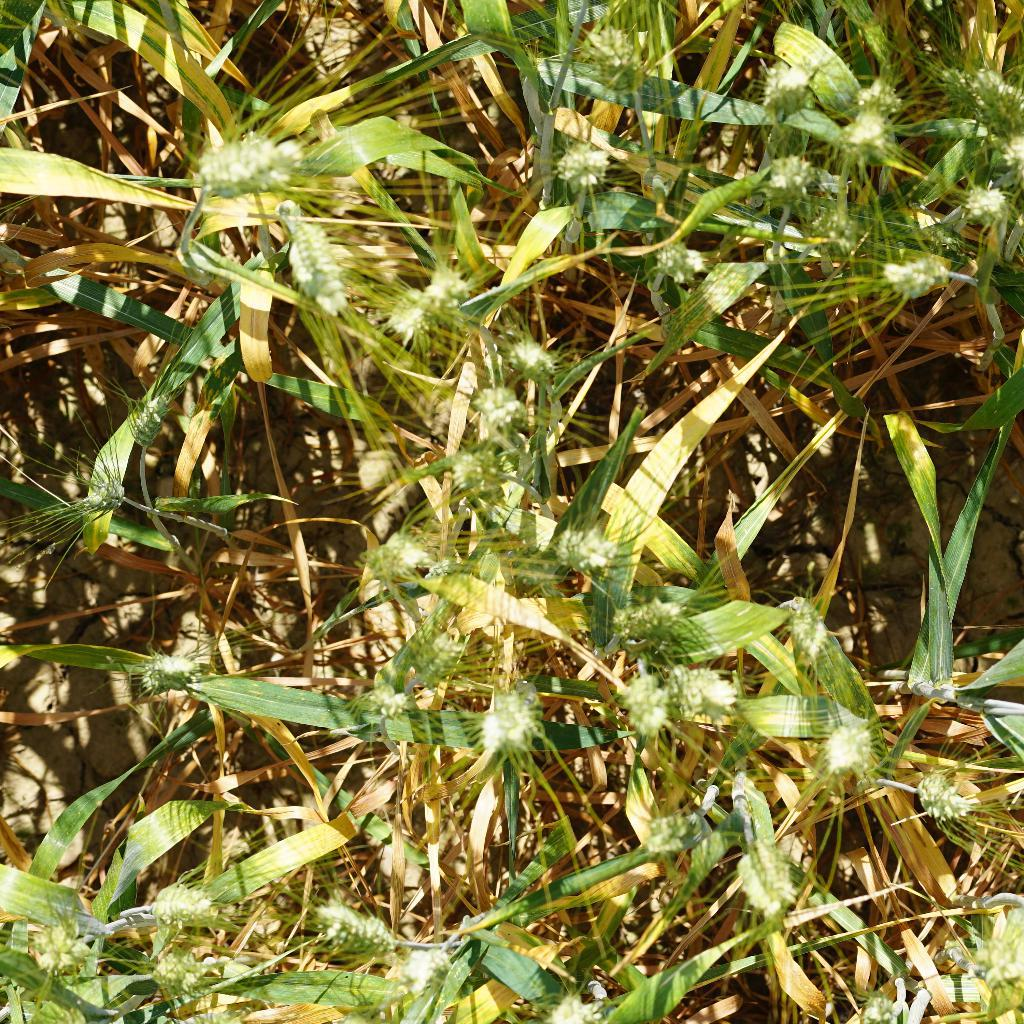0-0: (376, 246, 471, 340), (272, 210, 355, 314), (187, 123, 305, 194), (578, 17, 661, 114), (301, 897, 402, 965), (539, 519, 635, 590), (824, 77, 897, 170), (594, 590, 705, 650), (744, 49, 821, 134), (759, 144, 836, 228), (732, 836, 807, 915), (942, 63, 1024, 135), (464, 686, 555, 750), (444, 436, 529, 500), (879, 243, 957, 311), (135, 875, 224, 933), (963, 904, 1023, 990), (119, 643, 210, 695), (395, 623, 470, 684), (25, 909, 93, 976), (490, 326, 560, 391), (372, 529, 443, 590), (615, 665, 665, 751), (904, 768, 974, 828), (799, 195, 863, 258), (815, 712, 871, 783), (675, 664, 735, 729), (643, 802, 705, 864), (391, 938, 456, 996), (940, 178, 1008, 230), (649, 242, 721, 290), (844, 70, 908, 123), (560, 145, 626, 195), (781, 595, 833, 658), (148, 949, 213, 998), (122, 396, 172, 453), (463, 389, 523, 433), (74, 473, 137, 514), (357, 680, 418, 721), (507, 546, 557, 592), (541, 986, 600, 1024), (856, 978, 903, 1024), (920, 214, 969, 257), (516, 44, 548, 91)
